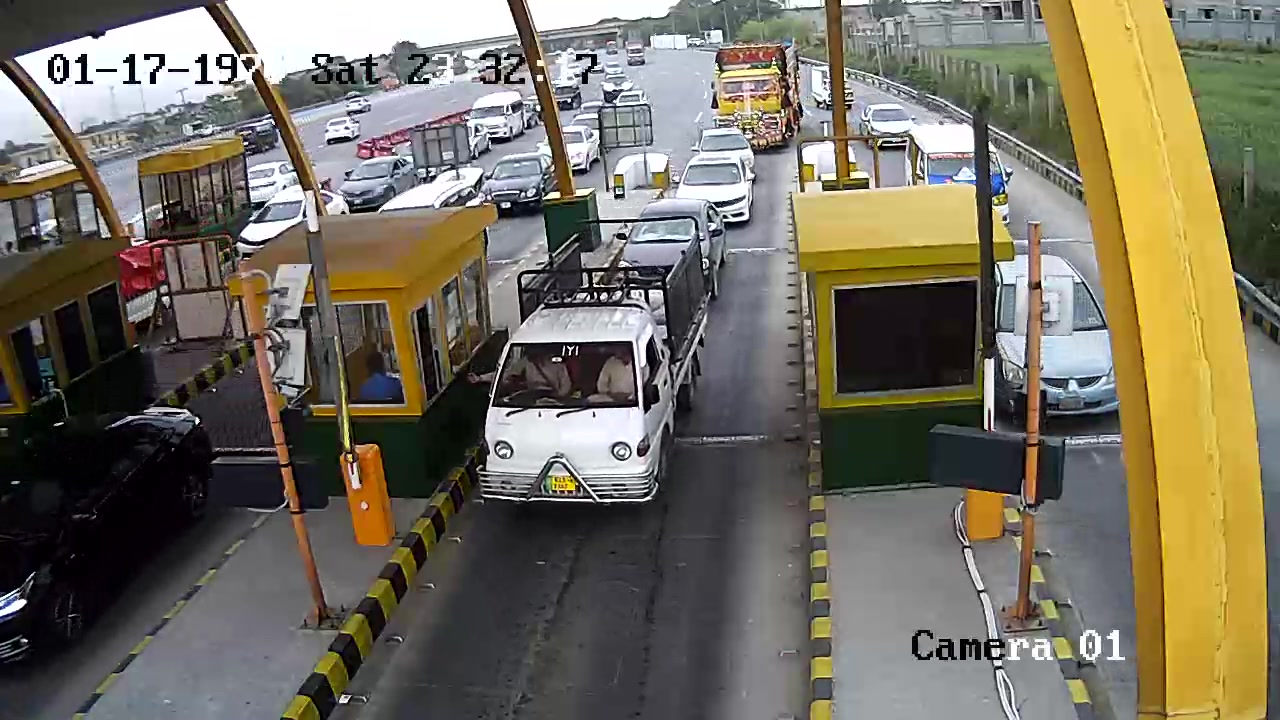F2: (482, 213, 711, 513)
